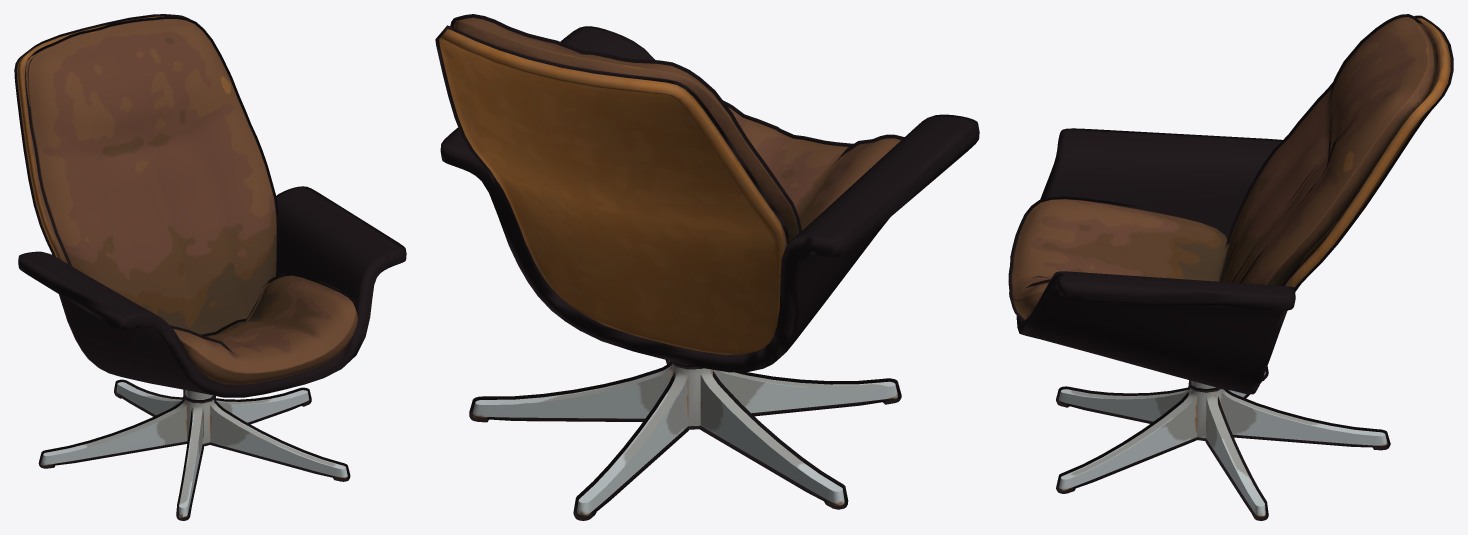
File: SM_Int_LoungeChair.fbx
3 views of the same model, side by side, from view 1: azimuth 30°, elevation 25°; view 2: azimuth 150°, elevation 25°; view 3: azimuth 270°, elevation 25° (orthographic). The views are drawn at different scales.
Parts seen in each view (by area): view 1: SM_Int_LoungeChair; view 2: SM_Int_LoungeChair; view 3: SM_Int_LoungeChair.
Part boxes in pixels (box(x1,y1,x2,y2)): SM_Int_LoungeChair: box(14, 14, 406, 520); SM_Int_LoungeChair: box(435, 14, 979, 520); SM_Int_LoungeChair: box(1008, 14, 1453, 520).
Size of what is drawn, in the model's own units: 1.02 by 1.18 by 1.21.
